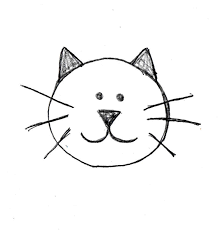cat: (27, 49, 190, 175)
